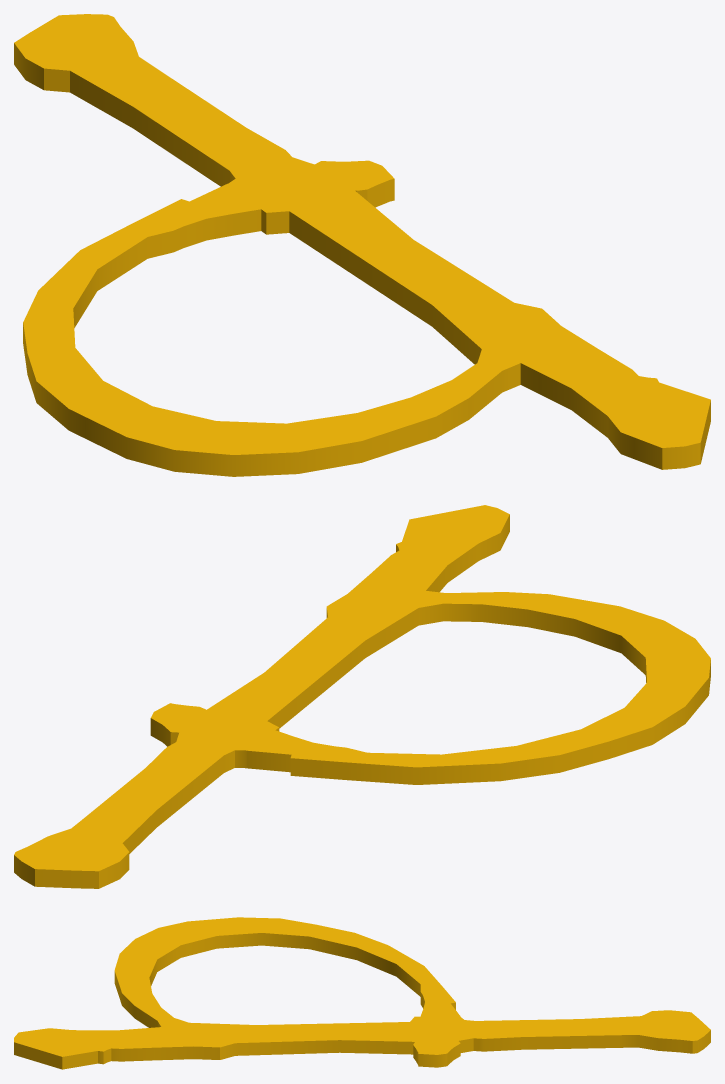
The model's file is original-114.obj.
3 renders of one model, top to bottom at view 1: azimuth 30°, elevation 25°; view 2: azimuth 150°, elevation 25°; view 3: azimuth 270°, elevation 25°, orthographic. The views are drawn at different scales.
Parts seen in each view (by area): view 1: mesh4/mesh4-geometry#mesh4-geometry; view 2: mesh4/mesh4-geometry#mesh4-geometry; view 3: mesh4/mesh4-geometry#mesh4-geometry.
Boxes of the visible parts, x1,y1,x2,y2 form: mesh4/mesh4-geometry#mesh4-geometry: [14, 14, 710, 476]; mesh4/mesh4-geometry#mesh4-geometry: [14, 505, 710, 888]; mesh4/mesh4-geometry#mesh4-geometry: [14, 917, 710, 1069].
Size of the model in its own units: 0.0107 by 0.000452 by 0.0225.
